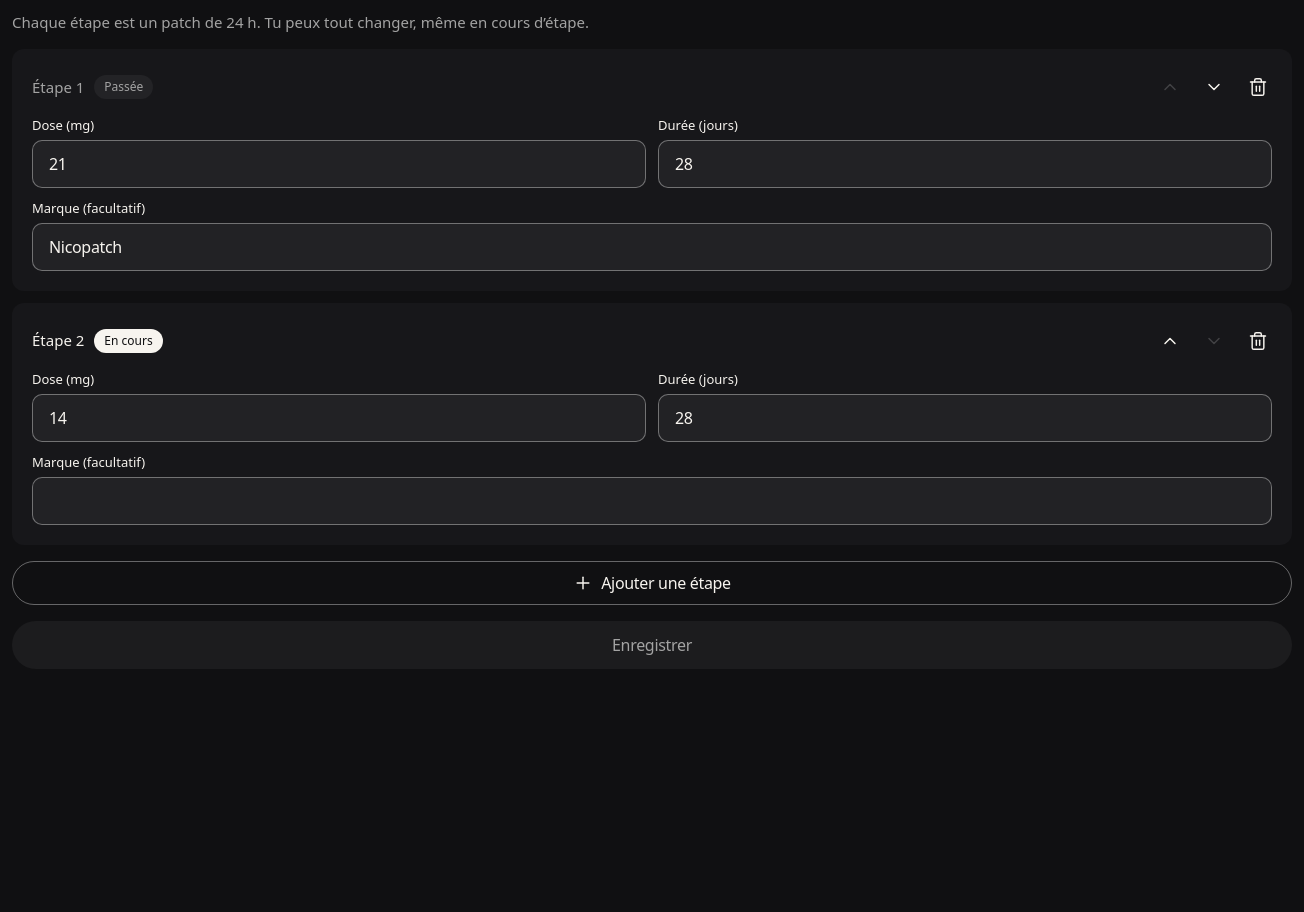
Test: wakes save on a changed step and puts it back to sleep once the change is undone
Replace the text in the field labelled "Dose (mg)" below "Étape 1" with "25": (339, 164) [32,140,646,188]
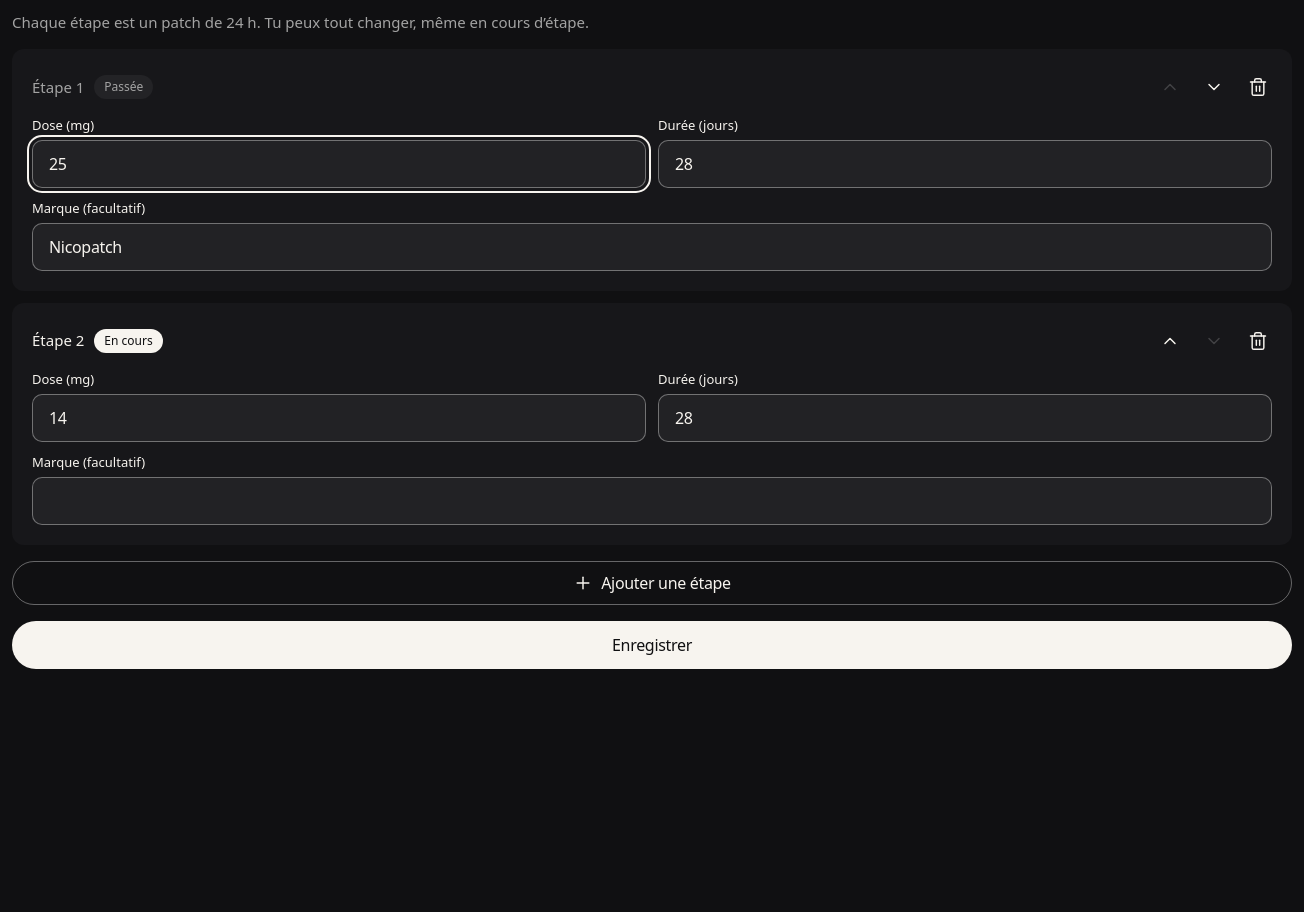
Check: the button "Enregistrer" is enabled, box [12,621,1292,669]
Replace the text in the field labelled "Dose (mg)" below "Étape 1" with "21": (339, 164) [32,140,646,188]
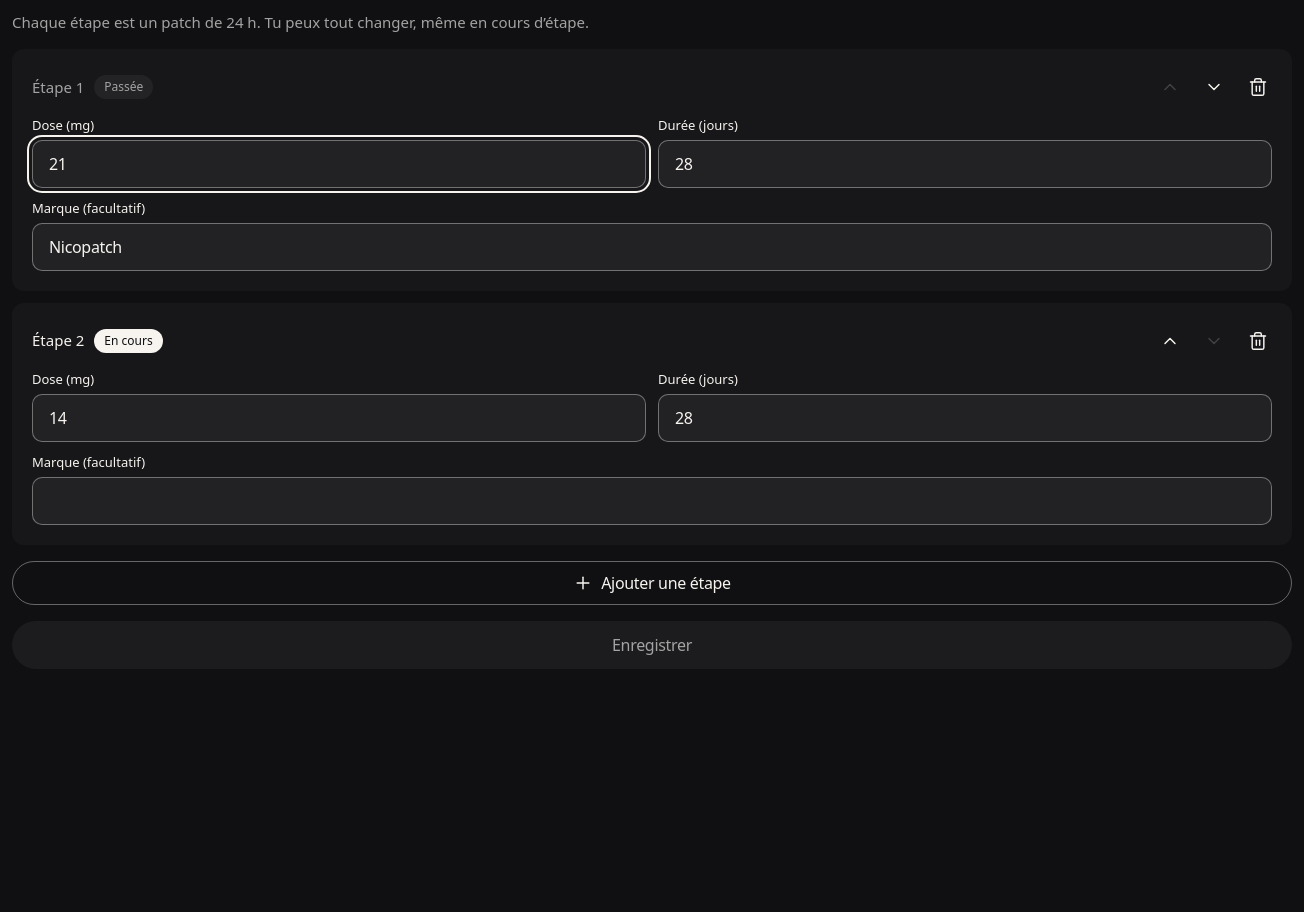
Check: the button "Enregistrer" is disabled, box [12,621,1292,669]
